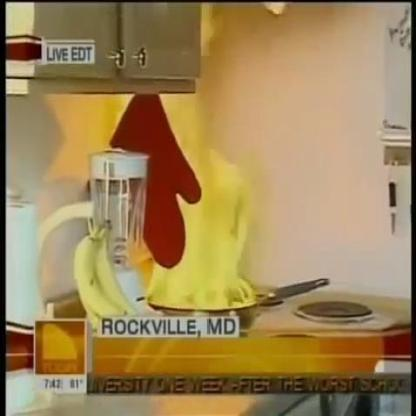fire: (137, 92, 254, 309)
